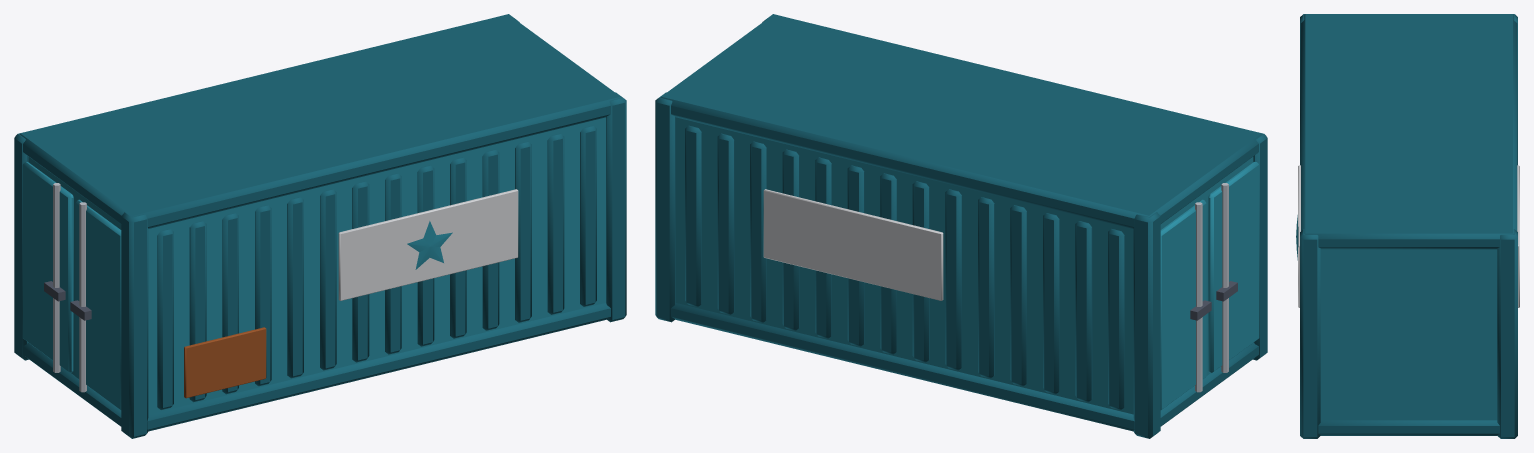
File: p_container_1.glb
3 renders of one model, left to right at view 1: azimuth 30°, elevation 25°; view 2: azimuth 150°, elevation 25°; view 3: azimuth 270°, elevation 25°, orthographic. The views are drawn at different scales.
Parts seen in each view (by area): view 1: body; view 2: body; view 3: body.
Boxes of the visible parts, box(x1,y1,x2,y2) form: body: box(14, 14, 626, 438); body: box(655, 14, 1267, 438); body: box(1296, 14, 1519, 438).
Size of the model in its own units: 6.21 by 2.61 by 2.58.
